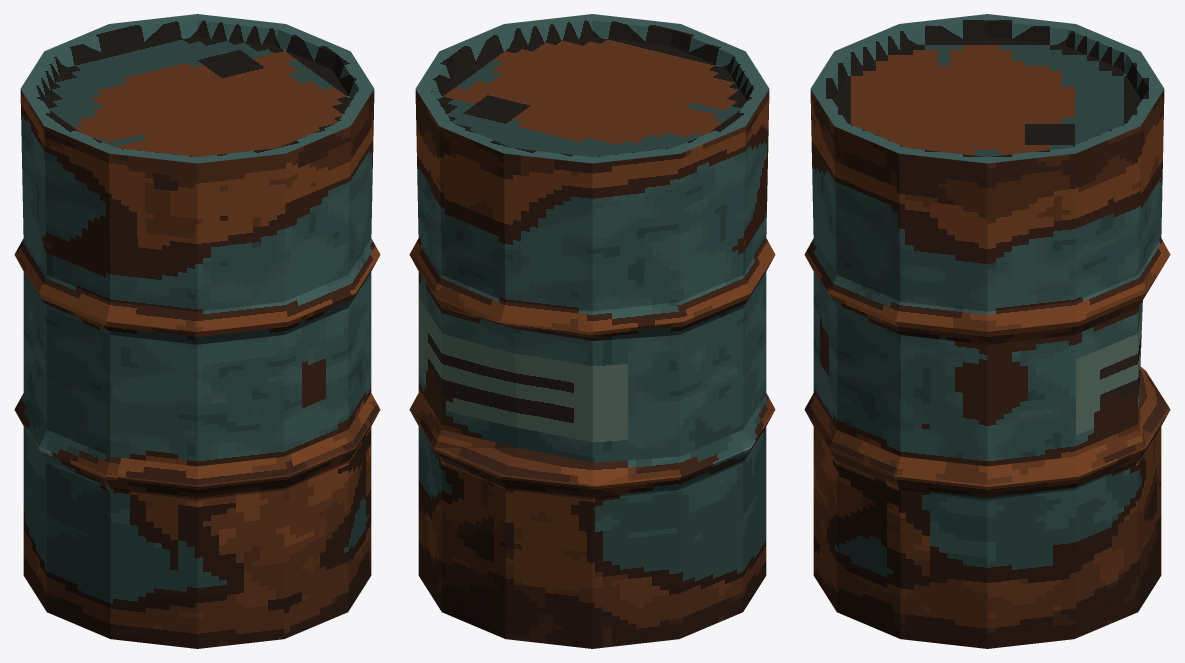
Rendered from SM_Prop_Barrel_Rusty_01.glb.
3 renders of one model, left to right at view 1: azimuth 30°, elevation 25°; view 2: azimuth 150°, elevation 25°; view 3: azimuth 270°, elevation 25°, orthographic.
Parts seen in each view (by area): view 1: SM_Prop_Barrel_Rusty_01; view 2: SM_Prop_Barrel_Rusty_01; view 3: SM_Prop_Barrel_Rusty_01.
Boxes of the visible parts, box(x1,y1,x2,y2) form: SM_Prop_Barrel_Rusty_01: box(14, 14, 380, 648); SM_Prop_Barrel_Rusty_01: box(409, 14, 775, 648); SM_Prop_Barrel_Rusty_01: box(804, 14, 1170, 648).
Size of what is drawn, in the model's own units: 0.6 by 0.88 by 0.6.
1 material, 1 textured.
